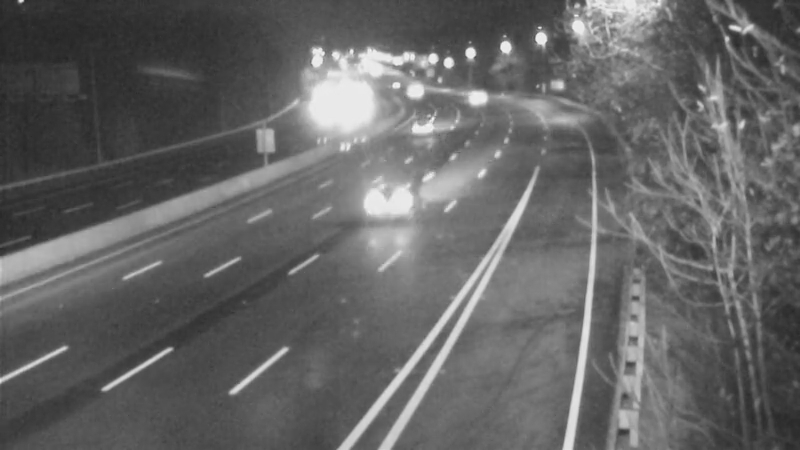vehicle: (358, 159, 438, 239), (389, 63, 439, 113), (450, 72, 500, 122), (399, 101, 449, 151)
